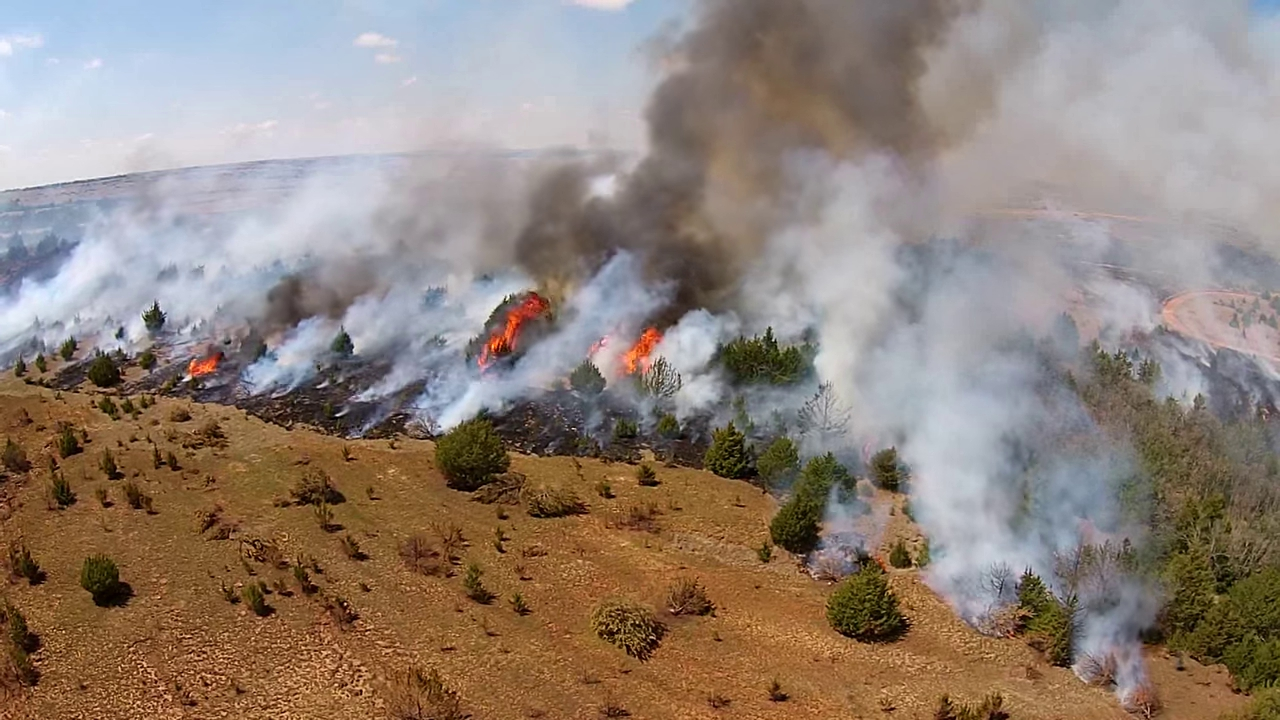forest_fire: (476, 292, 549, 369), (619, 327, 662, 374), (186, 352, 222, 378), (588, 337, 608, 356)
